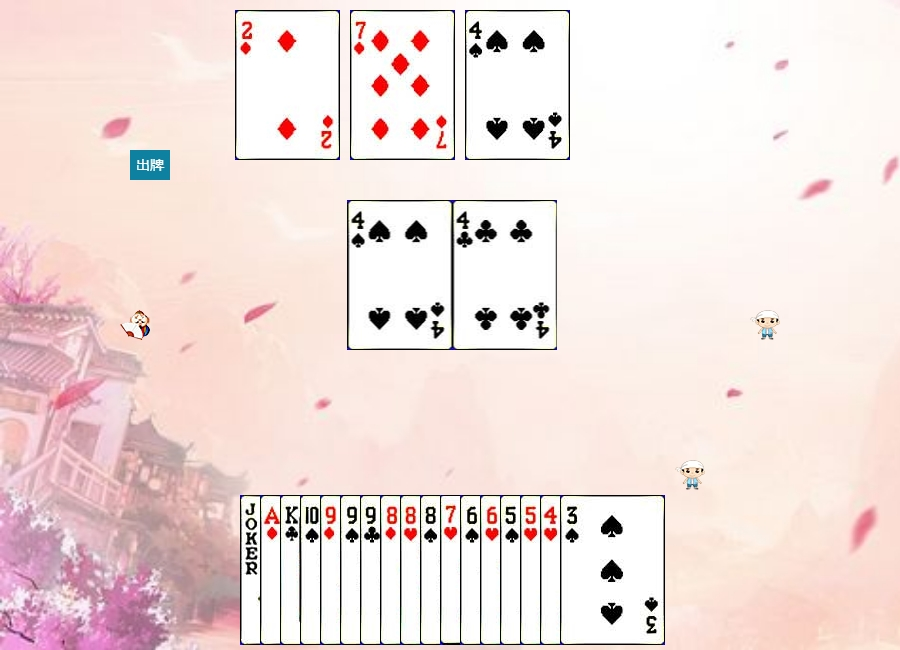10~4: (300, 495, 405, 645)
13~2: (280, 495, 385, 645)
14~1: (260, 495, 365, 645)
15~1: (235, 10, 340, 160)
17~3: (240, 495, 345, 645)
3~4: (560, 495, 665, 645)
4~2: (453, 200, 558, 350)
4~3: (540, 495, 645, 645)
4~4: (465, 10, 570, 160), (348, 200, 453, 350)
5~3: (520, 495, 625, 645)
5~4: (500, 495, 605, 645)
6~3: (480, 495, 585, 645)
6~4: (460, 495, 565, 645)
7~1: (350, 10, 455, 160)
7~3: (440, 495, 545, 645)
8~1: (380, 495, 485, 645)
8~3: (400, 495, 505, 645)
8~4: (420, 495, 525, 645)
9~1: (320, 495, 425, 645)
9~2: (360, 495, 465, 645)
9~4: (340, 495, 445, 645)
